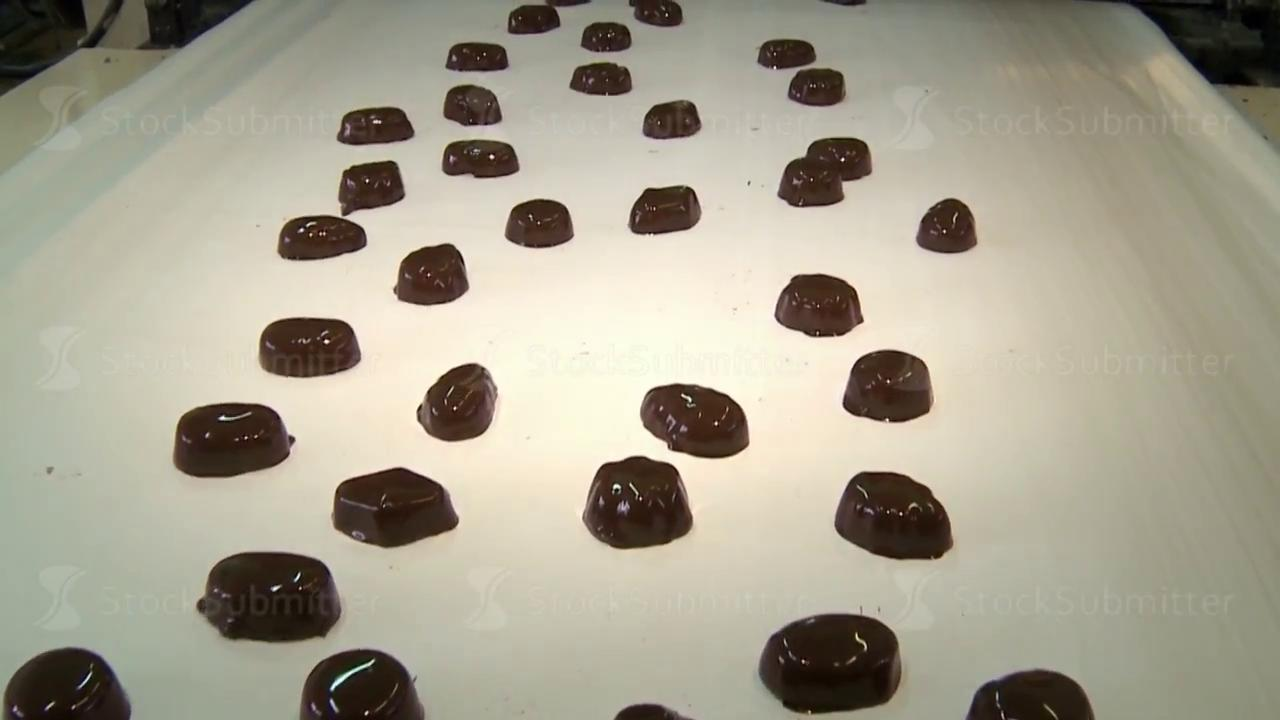chocolate: (758, 612, 902, 713), (196, 550, 341, 642), (834, 470, 953, 560), (582, 455, 692, 549), (332, 466, 458, 547), (2, 646, 132, 719), (173, 401, 294, 477), (299, 647, 425, 719), (640, 382, 749, 458), (966, 668, 1095, 719), (843, 349, 933, 422), (417, 362, 498, 441), (259, 316, 360, 377), (774, 273, 864, 337), (394, 243, 469, 305), (277, 214, 366, 260), (338, 160, 405, 215), (628, 185, 701, 234), (916, 198, 977, 253), (505, 198, 573, 247), (778, 157, 844, 207), (442, 139, 519, 178), (336, 106, 414, 144), (807, 136, 872, 179), (443, 84, 502, 125), (643, 99, 701, 139), (788, 67, 845, 105), (569, 61, 632, 95), (445, 42, 508, 71), (757, 38, 815, 69), (581, 21, 631, 52), (507, 5, 560, 34), (630, 0, 683, 26)
